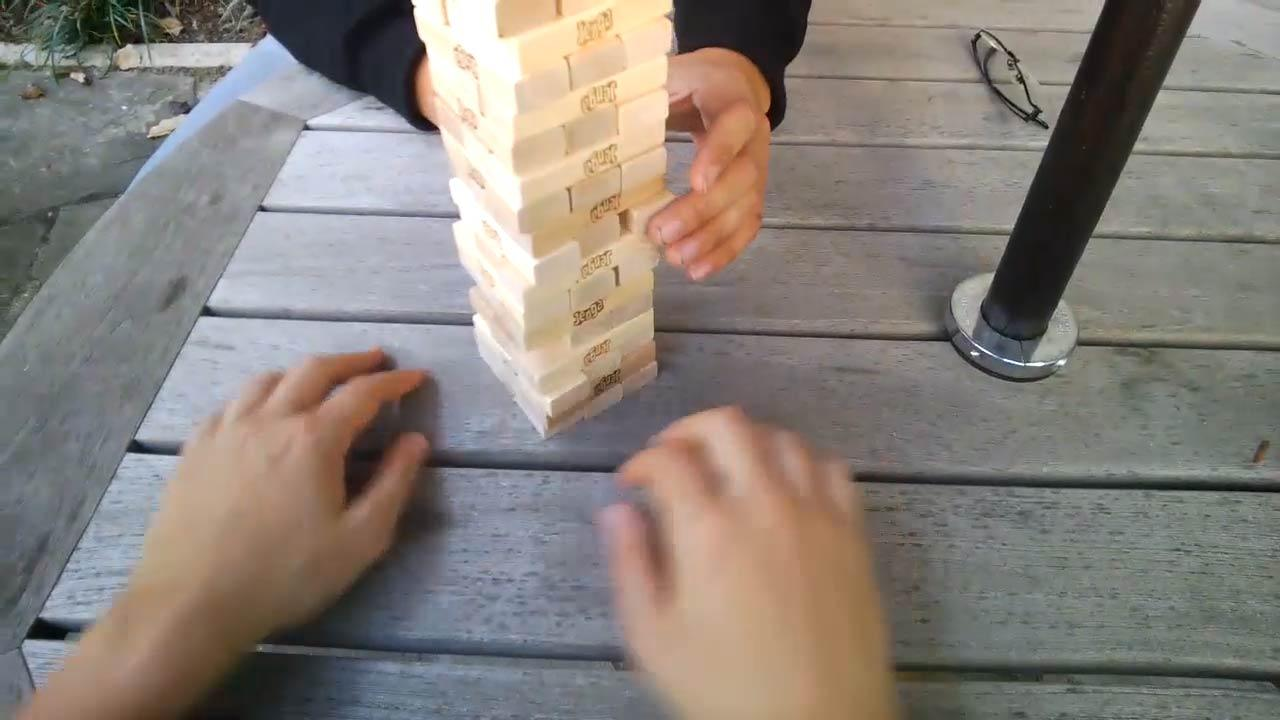hand: (591, 406, 900, 710), (154, 345, 437, 651), (645, 50, 777, 284)
